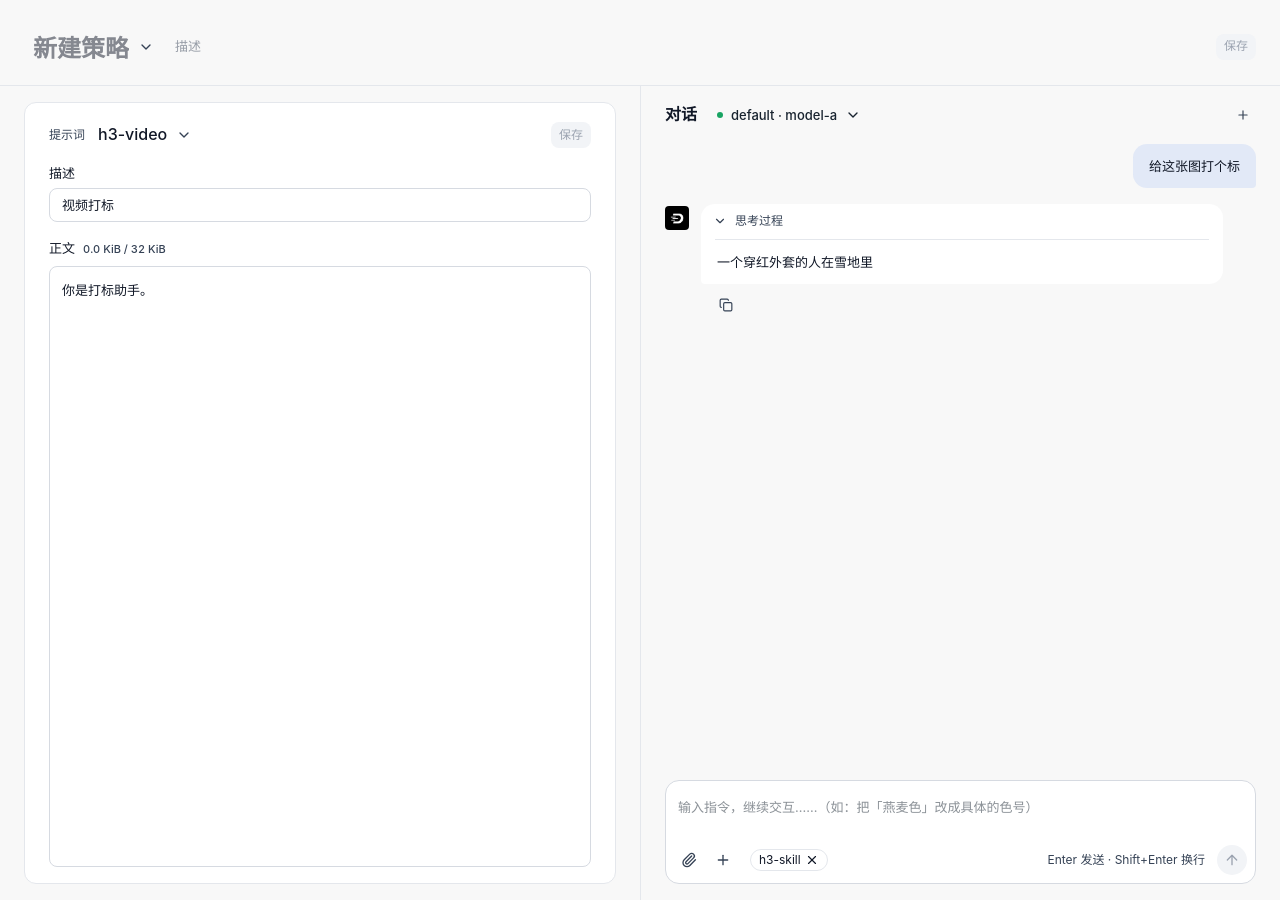
Test case: PromptWorkbench › 历史恢复的助手消息带思考过程：折叠区跟着回来
Check: the text "一个穿红外套的人在雪地里" is shown, box [717,254,873,270]
Click the heading "思考过程" at [748, 221], box [713,213,783,228]
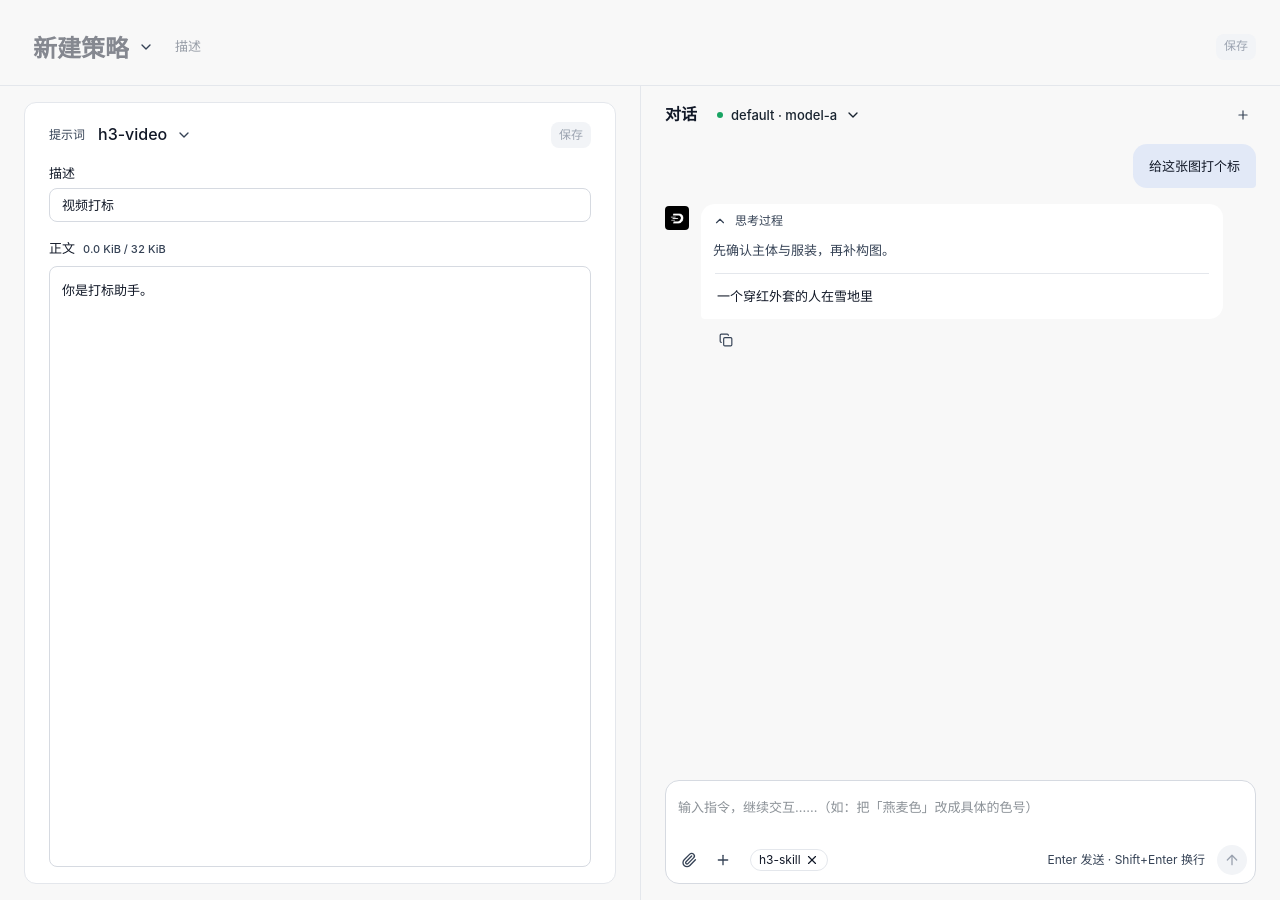
Check: the text "先确认主体与服装，再补构图。" is shown, box [713,242,895,258]
